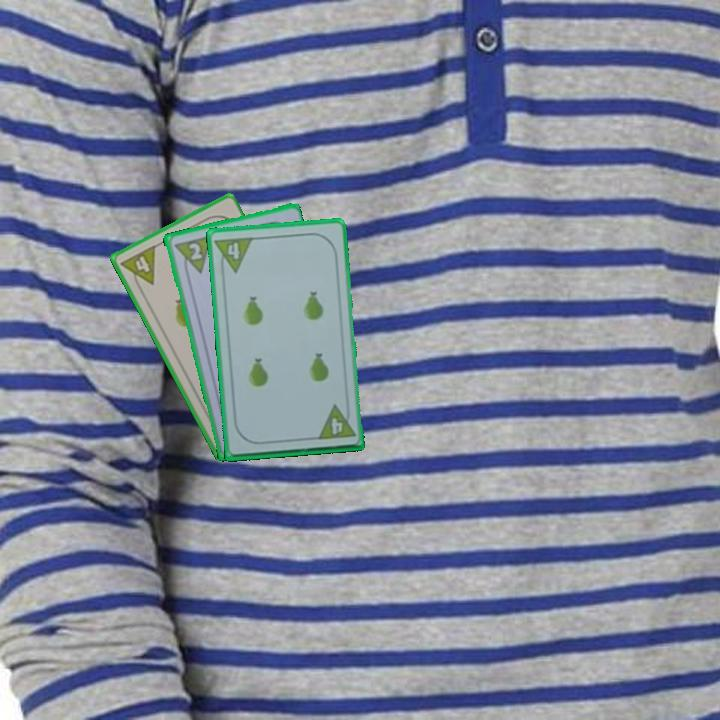2p: (170, 232, 214, 279)
4p: (117, 241, 158, 294), (211, 233, 256, 276), (314, 401, 358, 443)
